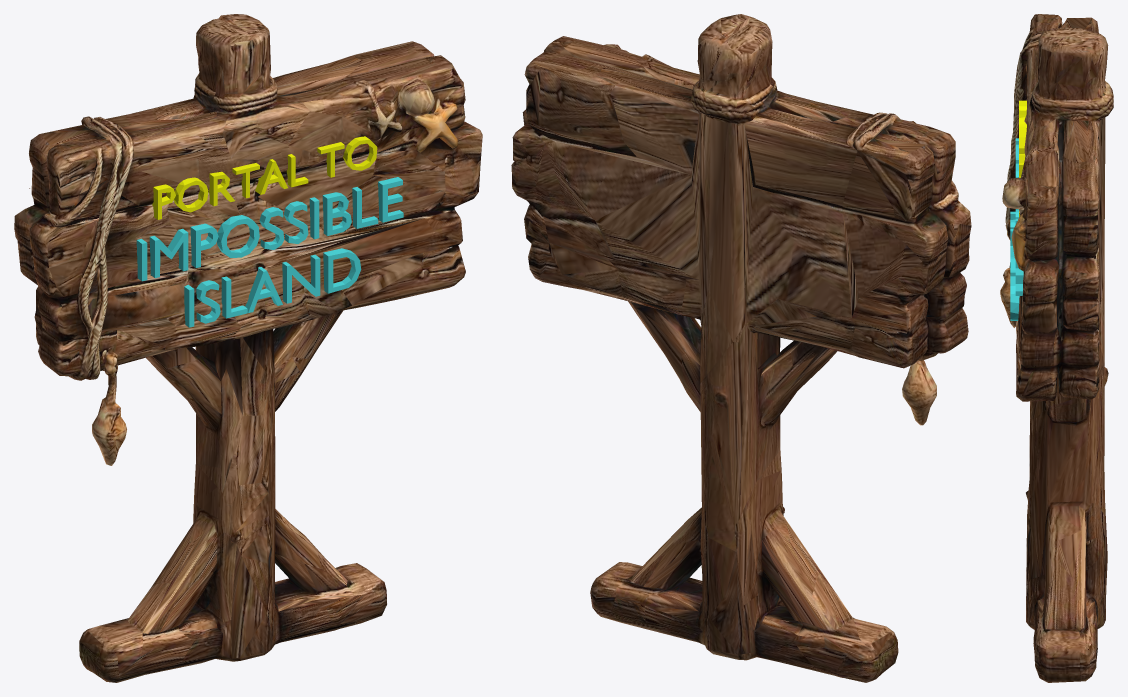
File: Portal_to_Impossible_Island.glb
3 views of the same model, side by side, from view 1: azimuth 30°, elevation 25°; view 2: azimuth 150°, elevation 25°; view 3: azimuth 270°, elevation 25° (orthographic). The views are drawn at different scales.
Parts seen in each view (by area): view 1: cartel; view 2: cartel; view 3: cartel.
Part boxes in pixels (left/top/right/bottom): cartel: left=14, top=14, right=482, bottom=682; cartel: left=511, top=14, right=971, bottom=682; cartel: left=1000, top=14, right=1113, bottom=682.
Bounding box in the file's own units: 1.41 × 1.91 × 0.3321.
Materials: 3 (1 with a texture image).
